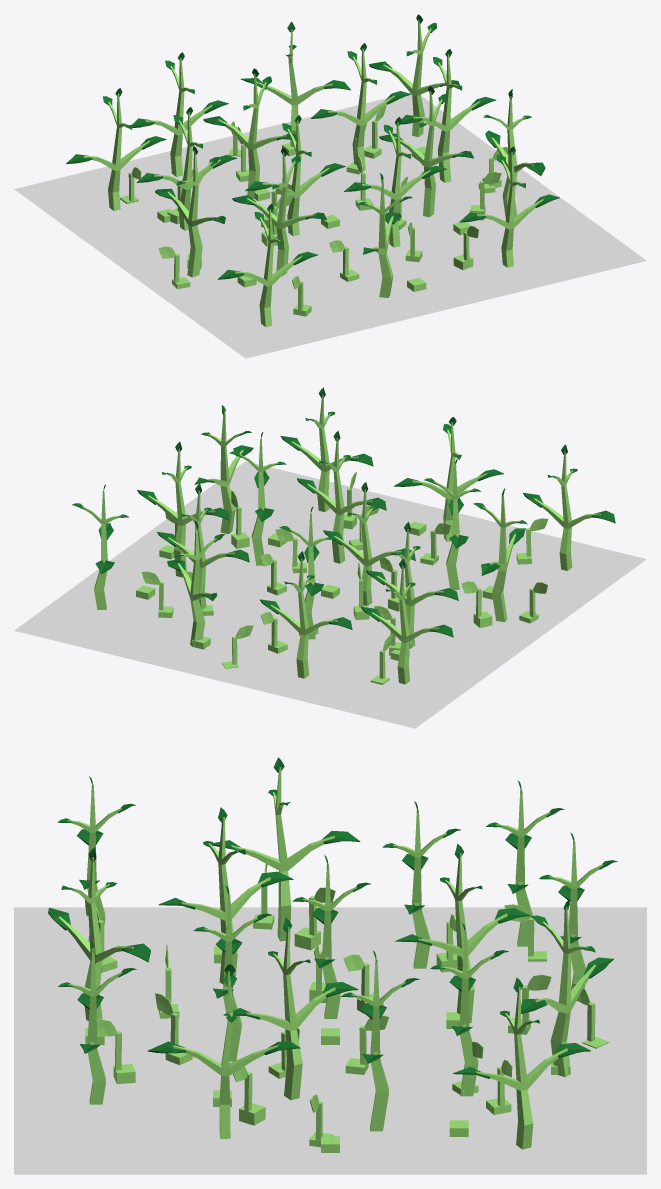
The model's file is Beansprouts2.fbx.
The picture shows the model from 3 angles, top to bottom: view 1: azimuth 30°, elevation 25°; view 2: azimuth 150°, elevation 25°; view 3: azimuth 270°, elevation 25°; orthographic projection. The views are drawn at different scales.
Visible parts, largest first — view 1: Plane, Stems, Phase 2, Phase 1, Stem; view 2: Plane, Stems, Phase 2, Phase 1, Stem; view 3: Plane, Stems, Phase 2, Phase 1, Stem.
Part boxes in pixels (<box>): Plane: <box>14,92,646,358</box>; Stems: <box>66,14,559,326</box>; Phase 2: <box>120,105,508,316</box>; Phase 1: <box>157,143,501,291</box>; Stem: <box>262,120,329,236</box>; Plane: <box>14,461,646,728</box>; Stems: <box>72,387,615,684</box>; Phase 2: <box>141,472,548,684</box>; Phase 1: <box>136,521,493,660</box>; Stem: <box>334,489,401,605</box>; Plane: <box>14,907,646,1174</box>; Stems: <box>48,757,617,1149</box>; Phase 2: <box>85,863,609,1147</box>; Phase 1: <box>85,946,569,1152</box>; Stem: <box>303,863,356,1018</box>.
Bounding box in the file's own units: 100 × 35.6 × 100.
